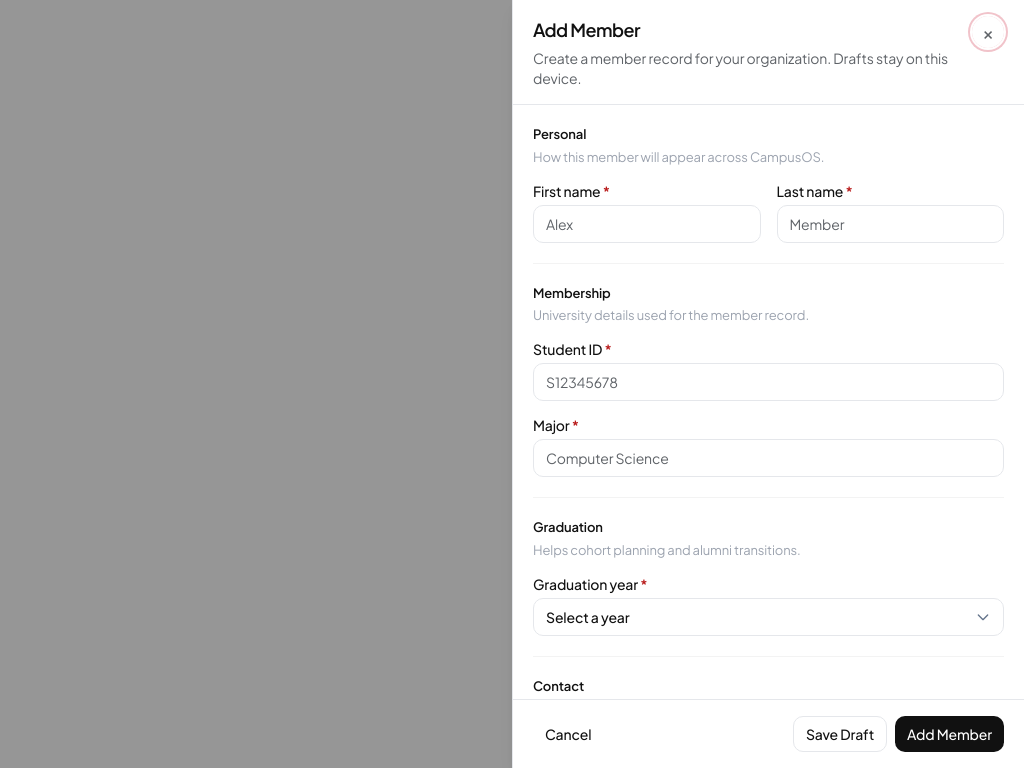
Test: AddMemberDrawer › shows validation feedback for an empty form
Click the button "Add Member" at [950, 734], box left=895, top=716, right=1004, bottom=752
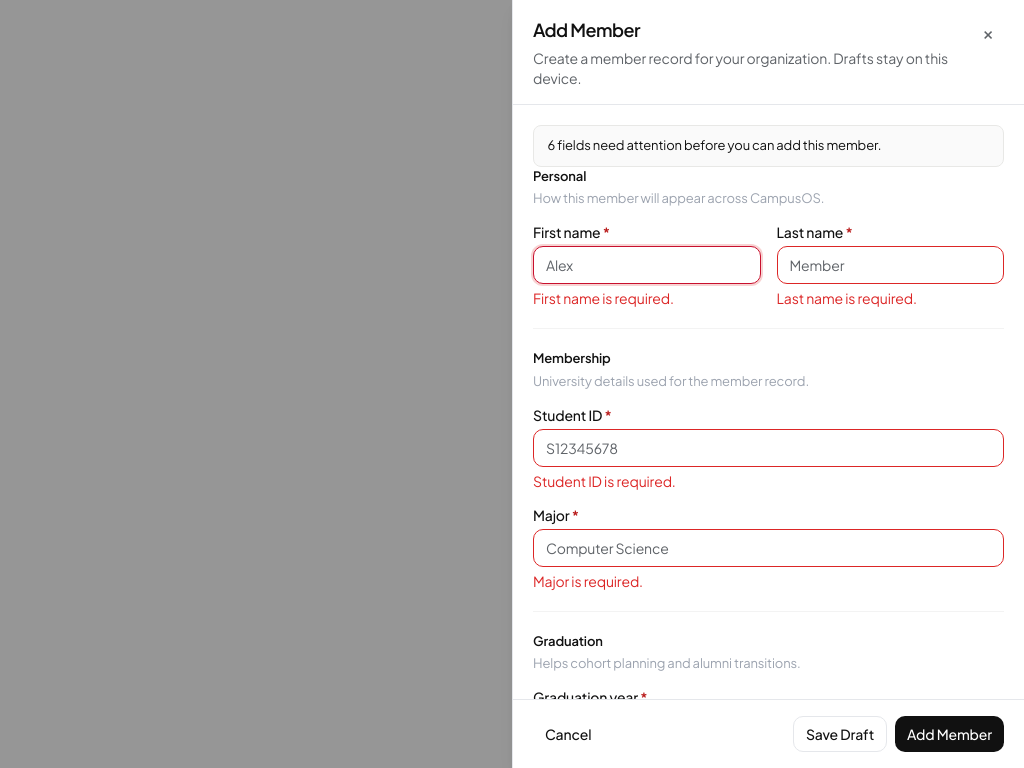
expect the text "6 fields need attention before you can add this member." is shown: met, box left=533, top=125, right=1004, bottom=167
expect the text "First name is required." is shown: met, box left=533, top=289, right=674, bottom=307
